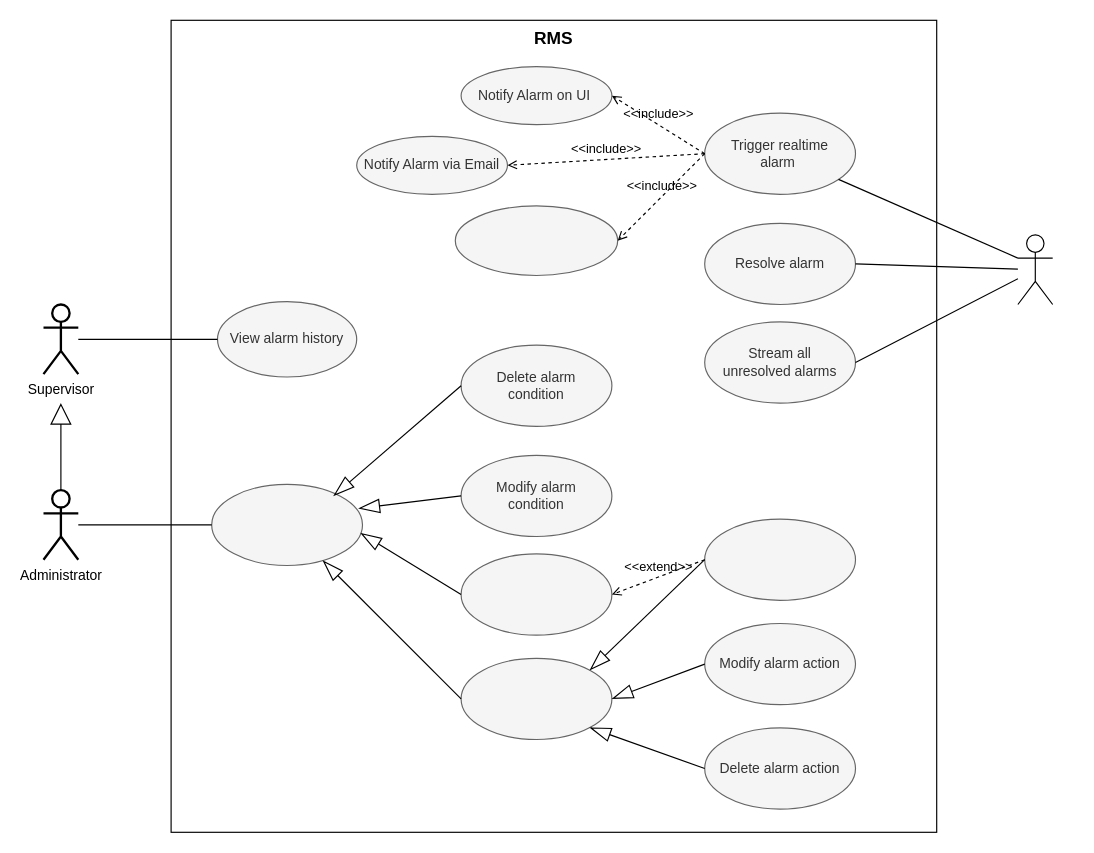
The diagram is 1094 pixels wide and 853 high, and some of its shapes have lost their labels. The centre of each missing label's shape, as x and y in pixels:
"Create alarm action" belongs at pixel 779 559.
"Create new alarm condition" belongs at pixel 536 594.
"Deliver push notification to mobile" belongs at pixel 536 240.
"Manage alarm actions" belongs at pixel 536 698.
"Manage alarm conditions" belongs at pixel 286 524.
"Timed Event" belongs at pixel 1035 269.
